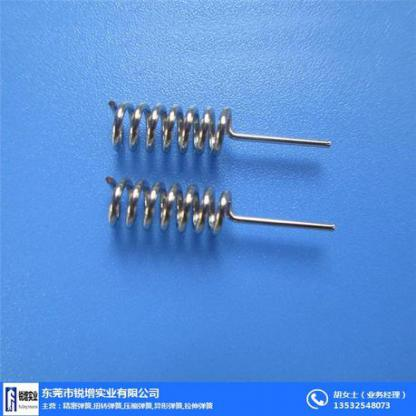FOD: (102, 173, 338, 240), (105, 96, 335, 156)
